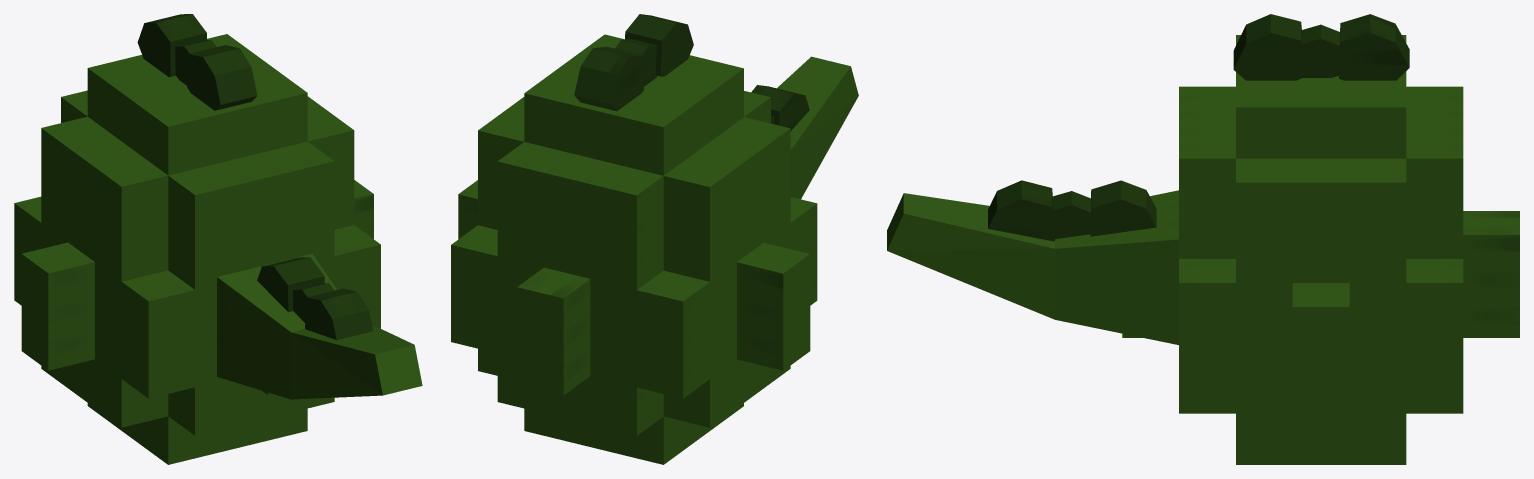
Rendered from egg_z05_03.glb.
3 renders of one model, left to right at view 1: azimuth 30°, elevation 25°; view 2: azimuth 150°, elevation 25°; view 3: azimuth 270°, elevation 25°, orthographic. The views are drawn at different scales.
Visible parts, largest first — view 1: model_086; view 2: model_086; view 3: model_086.
Part boxes in pixels (left/top/right/bottom): model_086: left=14, top=14, right=422, bottom=464; model_086: left=451, top=14, right=858, bottom=464; model_086: left=887, top=14, right=1519, bottom=464.
Bounding box in the file's own units: 2.51 × 2.83 × 4.
2 materials, 2 textured.
